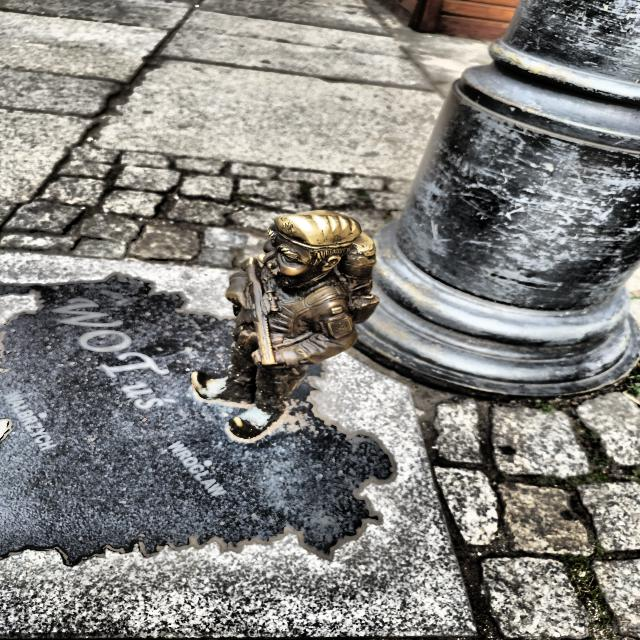WOTus: (192, 210, 378, 439)
